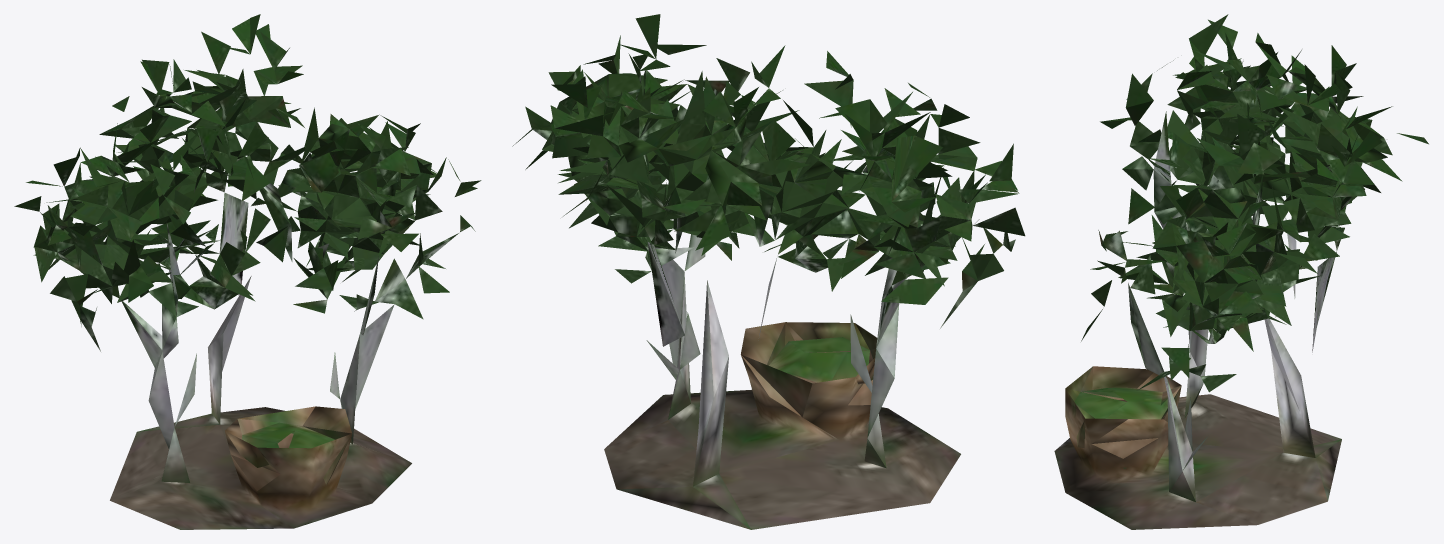
File: yerbal.glb
The picture shows the model from 3 angles, left to right: view 1: azimuth 30°, elevation 25°; view 2: azimuth 150°, elevation 25°; view 3: azimuth 270°, elevation 25°; orthographic projection. The views are drawn at different scales.
Parts seen in each view (by area): view 1: output_unwrapped; view 2: output_unwrapped; view 3: output_unwrapped.
Boxes of the visible parts, x1,y1,x2,y2 form: output_unwrapped: [14, 14, 481, 529]; output_unwrapped: [512, 14, 1025, 529]; output_unwrapped: [1054, 14, 1428, 529].
Bounding box in the file's own units: 1.7 × 1.5 × 1.2.
Materials: 1 (1 with a texture image).
